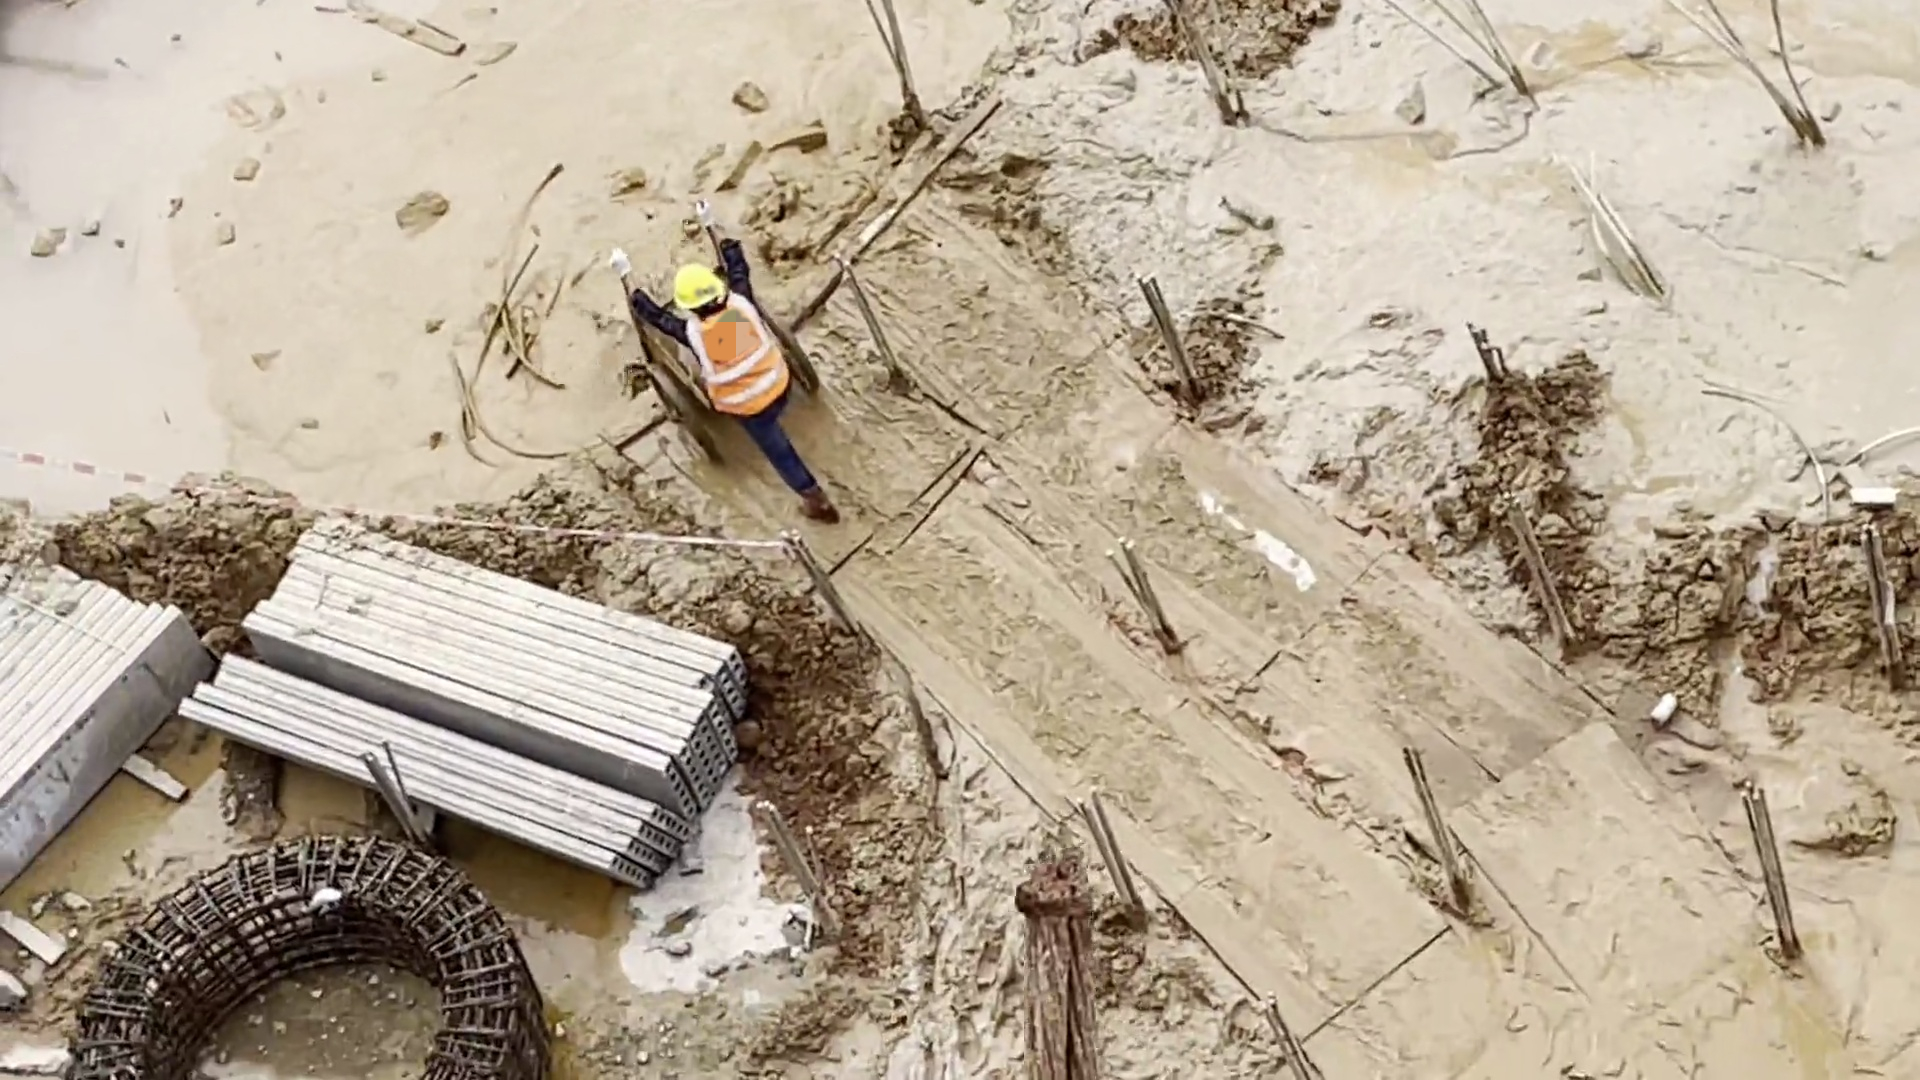helmet: (662, 256, 738, 308)
person: (609, 211, 846, 525)
vest: (676, 309, 801, 419)
